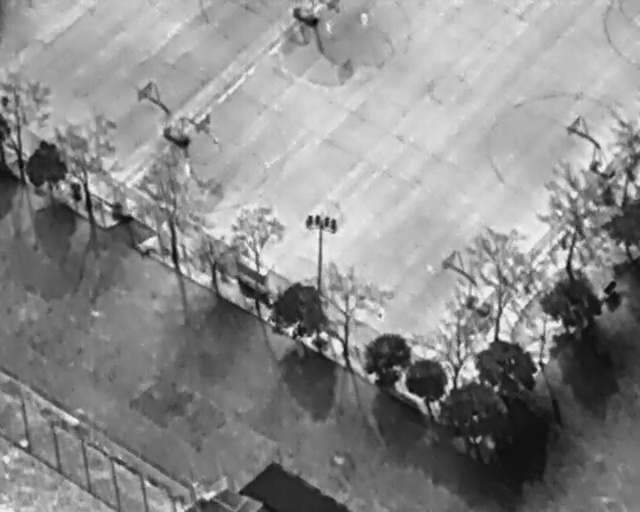Person: (325, 18, 335, 38), (359, 10, 368, 29), (185, 155, 192, 178)
